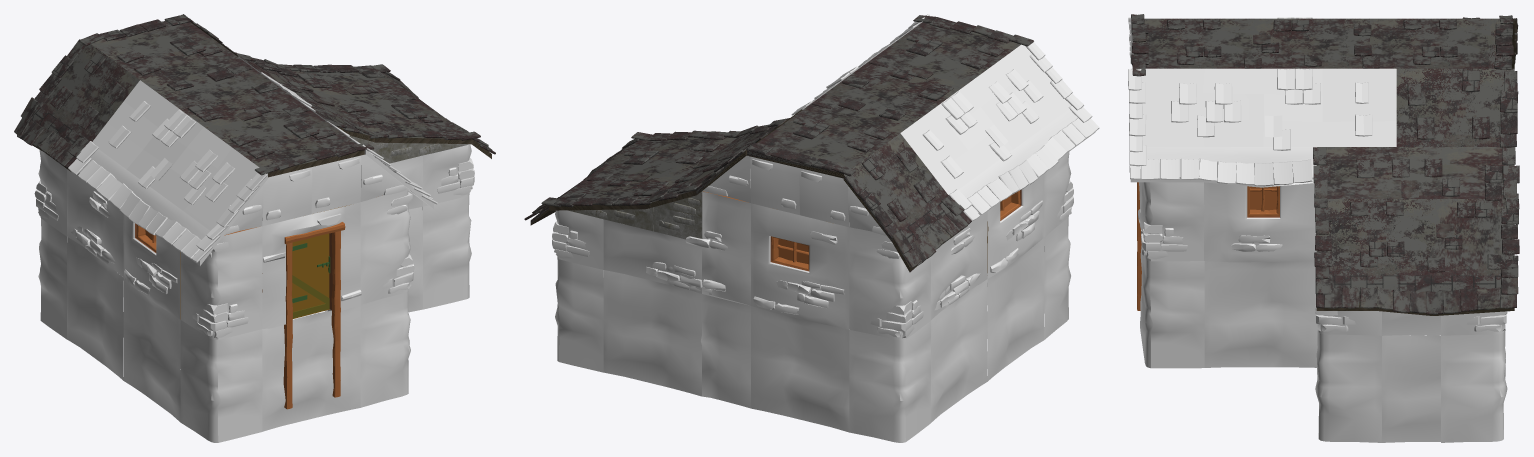
File: Modular_house_7.fbx
3 views of the same model, side by side, from view 1: azimuth 30°, elevation 25°; view 2: azimuth 150°, elevation 25°; view 3: azimuth 270°, elevation 25° (orthographic). The views are drawn at different scales.
Parts seen in each view (by area): view 1: roof.047, roof.050, underground.034, underground.029, roof.061, roof.048, wall.061, underground.031, roof.049, Roof_long_strip_low.020, underground.030, wall.070 (+31 smaller); view 2: roof.047, roof.050, underground.050, underground.033, underground.032, wall.068, roof.061, roof.048, wall.064, underground.031, roof.049, underground.030 (+27 smaller); view 3: roof.046, roof.061, roof.050, underground.038, roof.060, roof.051, Roof_long_strip_low.022, roof.048, wall.065, underground.049, underground.037, underground.035 (+12 smaller).
Boxes of the visible parts, box(x1,y1,x2,y2) form: roof.047: box(92, 80, 267, 241); roof.050: box(153, 66, 374, 177); underground.034: box(262, 305, 360, 431); underground.029: box(180, 320, 262, 442); roof.061: box(278, 64, 480, 144); roof.048: box(78, 14, 252, 89); wall.061: box(180, 226, 262, 339); underground.031: box(67, 237, 123, 380); roof.049: box(34, 39, 139, 141); Roof_long_strip_low.020: box(68, 141, 220, 265); underground.030: box(123, 278, 180, 422); wall.070: box(262, 202, 360, 328); roof.047: box(900, 39, 1083, 194); roof.050: box(815, 15, 1033, 123); underground.050: box(603, 270, 701, 396); underground.033: box(751, 306, 849, 432); underground.032: box(849, 321, 930, 442); wall.068: box(750, 203, 849, 329); roof.061: box(541, 130, 743, 210); roof.048: box(746, 97, 912, 178); wall.064: box(849, 227, 930, 340); underground.031: box(931, 279, 987, 422); roof.049: box(843, 133, 947, 242); underground.030: box(987, 238, 1044, 381); roof.046: box(1128, 68, 1396, 152); roof.061: box(1314, 193, 1519, 279); roof.050: box(1131, 14, 1371, 76); underground.038: box(1204, 261, 1317, 367); roof.060: box(1313, 147, 1519, 201); roof.051: box(1396, 68, 1518, 147); Roof_long_strip_low.022: box(1315, 274, 1518, 315); roof.048: box(1362, 15, 1513, 69); wall.065: box(1204, 182, 1316, 262); underground.049: box(1315, 330, 1381, 442); underground.037: box(1441, 330, 1507, 442); underground.035: box(1140, 255, 1204, 368).
Bounding box in the file's own units: 796 × 517 × 663.
